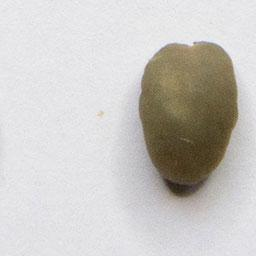peaberry: (135, 38, 241, 189)
